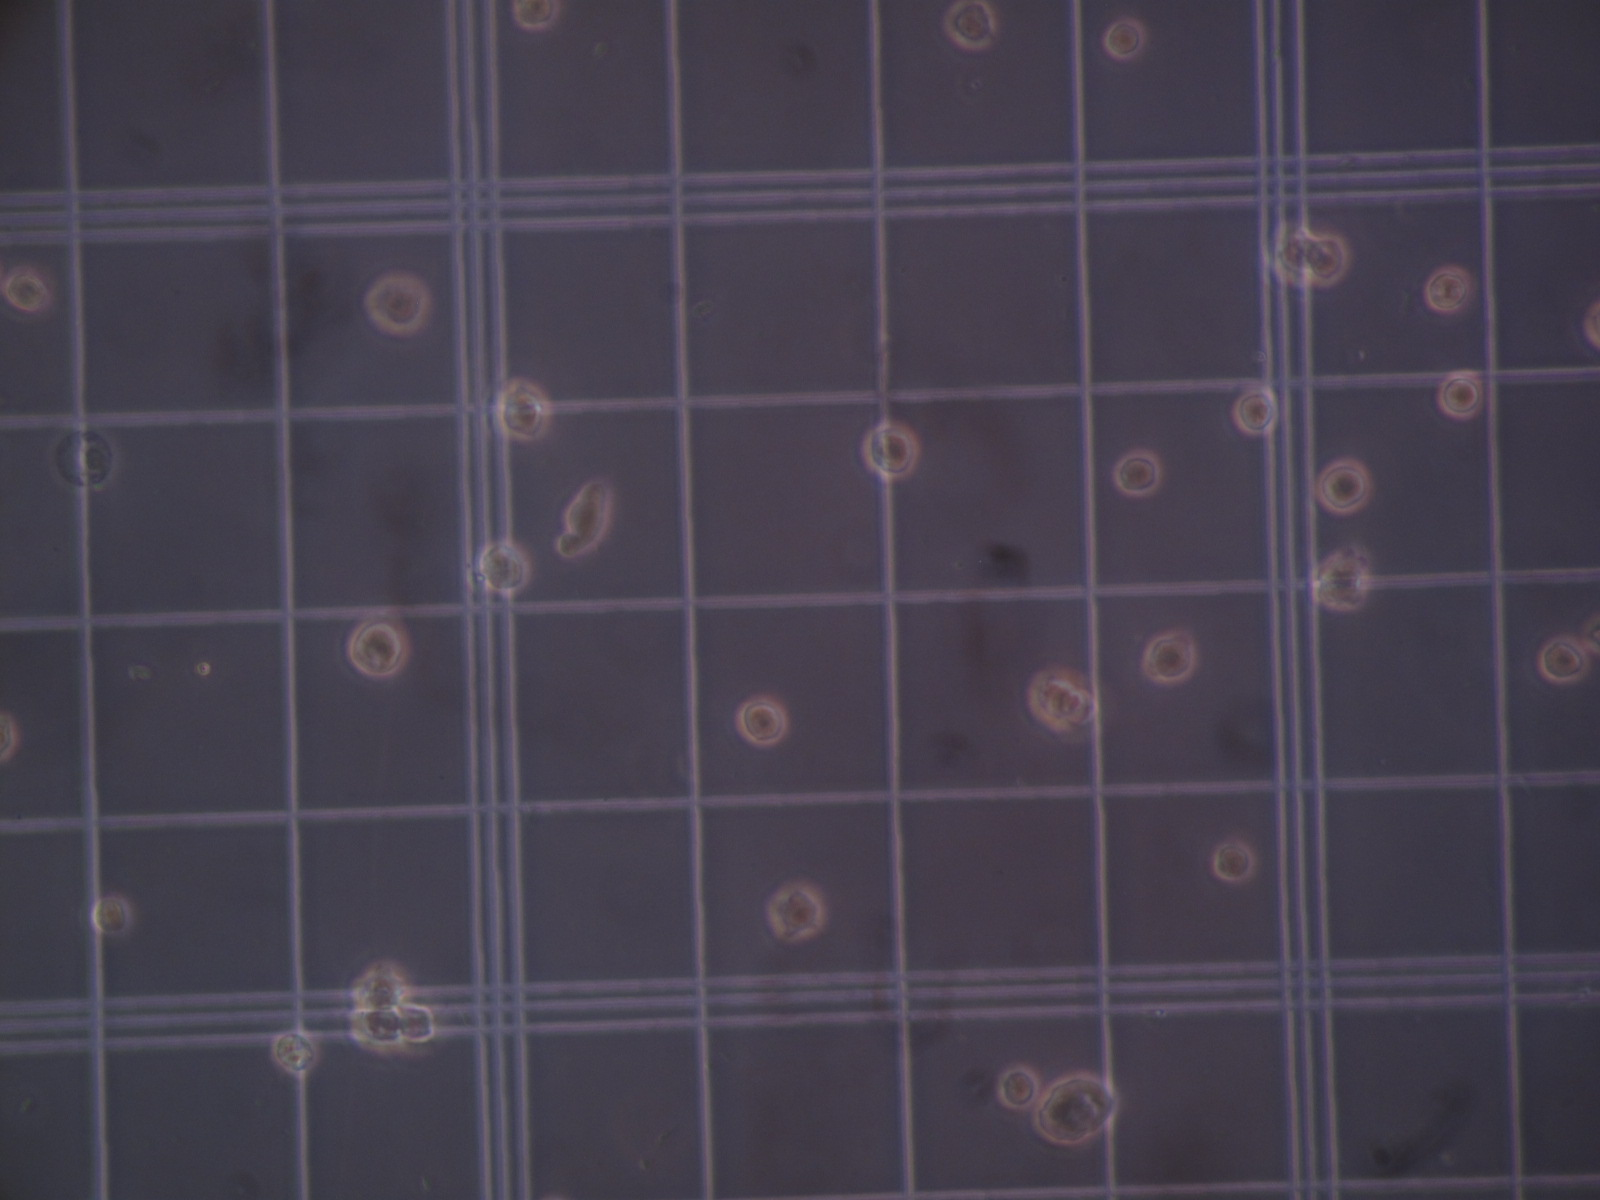hemo: (1033, 1070, 1117, 1146), (362, 271, 430, 337), (860, 420, 923, 480), (1027, 671, 1086, 732), (495, 377, 551, 442), (349, 620, 409, 678), (1317, 458, 1373, 516), (769, 885, 824, 943), (1315, 551, 1369, 608), (736, 695, 790, 750), (477, 539, 530, 594), (350, 959, 407, 1008), (941, 1, 997, 50), (346, 1008, 402, 1054), (1143, 637, 1197, 682), (1306, 233, 1351, 289), (1540, 634, 1590, 682), (1436, 369, 1484, 420), (564, 497, 609, 551), (1114, 447, 1162, 497), (1424, 267, 1473, 314), (1233, 387, 1280, 435), (270, 1031, 317, 1078), (396, 998, 438, 1050), (997, 1065, 1041, 1109), (1212, 841, 1257, 884), (4, 272, 50, 313), (1270, 234, 1308, 284), (89, 896, 134, 937), (1104, 19, 1146, 58), (511, 1, 561, 28), (556, 529, 588, 561)
